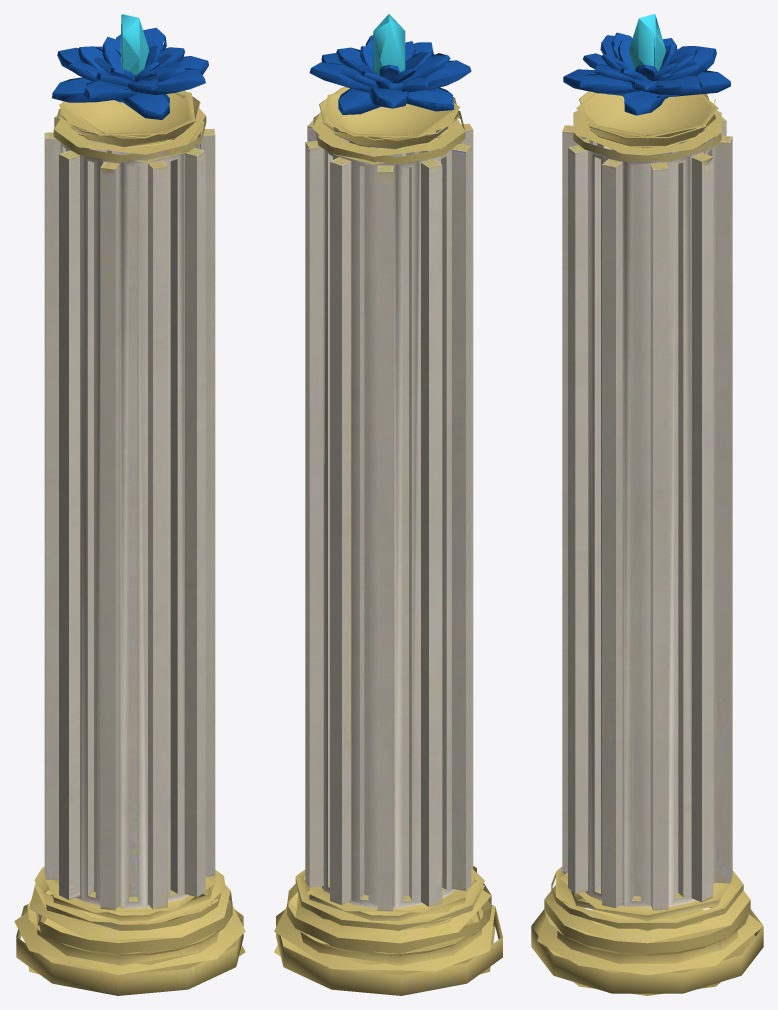
Rendered from archwayPillarRight_lowPolyCompressed.glb.
3 views of the same model, side by side, from view 1: azimuth 30°, elevation 25°; view 2: azimuth 150°, elevation 25°; view 3: azimuth 270°, elevation 25° (orthographic).
Visible parts, largest first — view 1: archway_polySurface37.001, archway_polySurface37.004, archway_polySurface37; view 2: archway_polySurface37.001, archway_polySurface37.004, archway_polySurface37; view 3: archway_polySurface37.001, archway_polySurface37.004, archway_polySurface37.
Boxes of the visible parts, left/top/right/bottom form: archway_polySurface37.001: left=14, top=90, right=245, bottom=995; archway_polySurface37.004: left=52, top=27, right=208, bottom=119; archway_polySurface37: left=120, top=14, right=149, bottom=75; archway_polySurface37.001: left=274, top=87, right=502, bottom=995; archway_polySurface37.004: left=309, top=35, right=471, bottom=114; archway_polySurface37: left=373, top=14, right=405, bottom=74; archway_polySurface37.001: left=531, top=91, right=763, bottom=995; archway_polySurface37.004: left=563, top=32, right=730, bottom=115; archway_polySurface37: left=628, top=14, right=665, bottom=71.
Bounding box in the file's own units: 0.3006 × 1.33 × 0.3006.
Materials: 3 (1 with a texture image).
